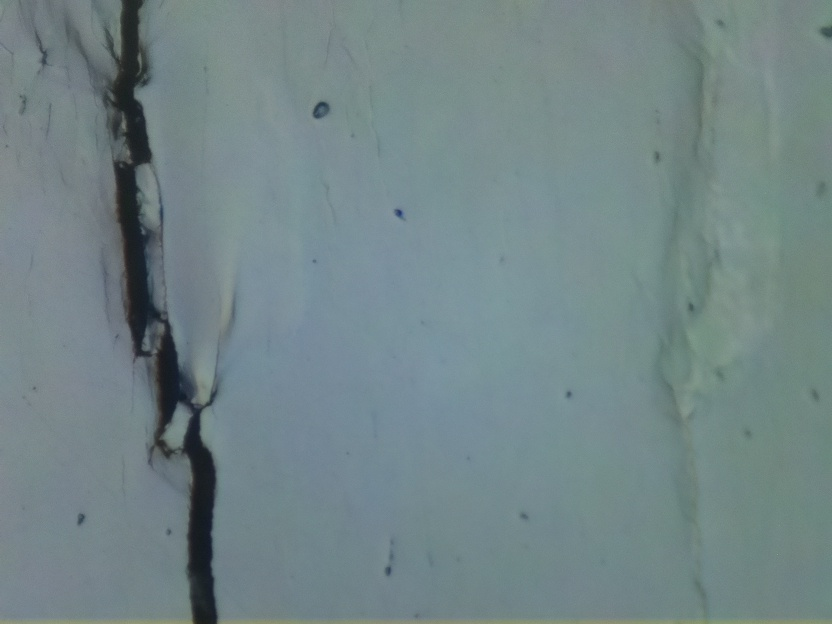crack: (112, 0, 221, 624)
